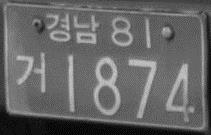1: (63, 52, 78, 114), (142, 16, 154, 49)
4: (164, 60, 196, 123)
7: (125, 57, 159, 119)
8: (92, 56, 121, 117), (110, 16, 133, 46)
거: (14, 52, 49, 93)
경남_O: (44, 12, 100, 45)
